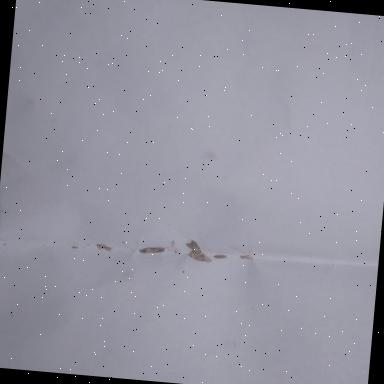pbw: (138, 245, 166, 255), (186, 249, 206, 262), (184, 240, 202, 254)
